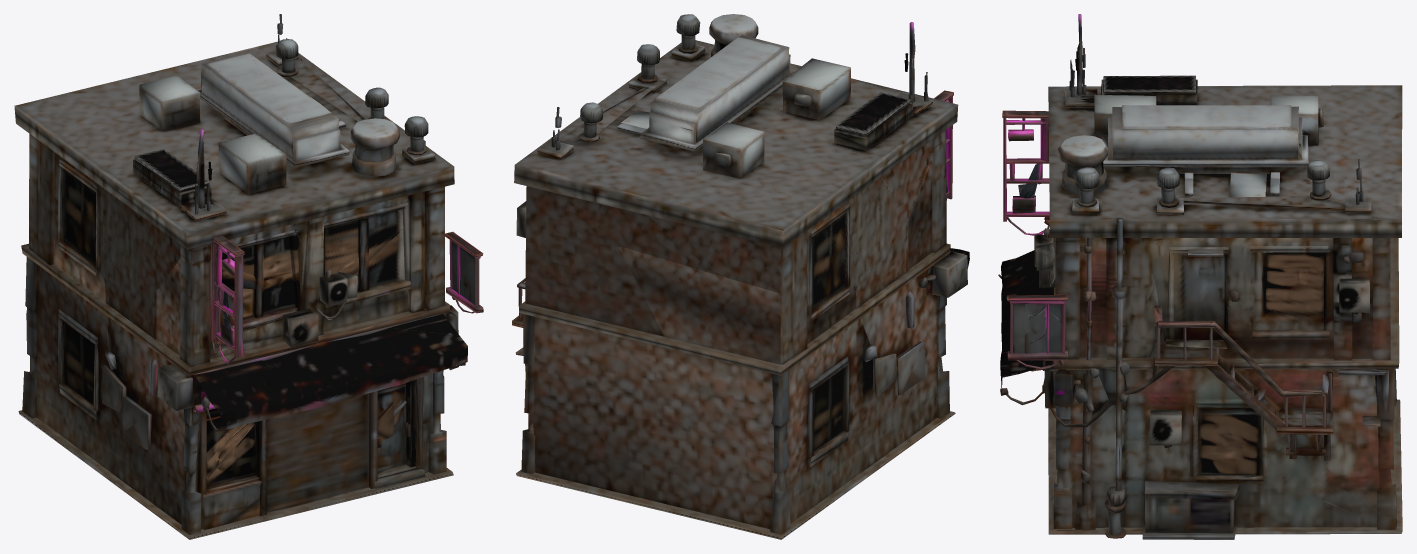
File: shopfront.glb
The picture shows the model from 3 angles, left to right: view 1: azimuth 30°, elevation 25°; view 2: azimuth 150°, elevation 25°; view 3: azimuth 270°, elevation 25°; orthographic projection. The views are drawn at different scales.
Parts seen in each view (by area): view 1: geometry_0; view 2: geometry_0; view 3: geometry_0.
Boxes of the visible parts, bbox=[...] form: geometry_0: bbox=[14, 14, 483, 539]; geometry_0: bbox=[512, 14, 969, 539]; geometry_0: bbox=[998, 14, 1402, 539].
Bounding box in the file's own units: 0.8376 × 1 × 0.9125.
1 material, 1 textured.
